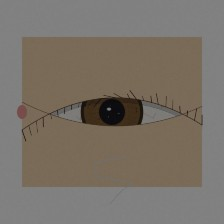foreign_body_visible: (94, 136, 112, 150)
